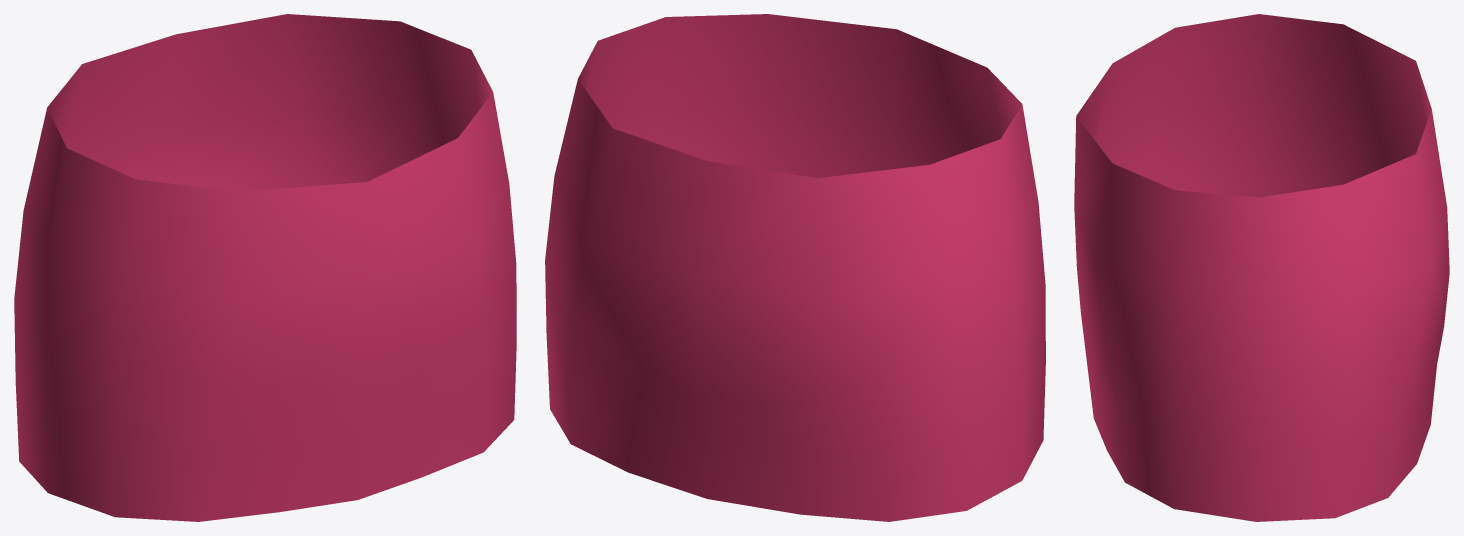
File: Pants_Pink_005.glb
The picture shows the model from 3 angles, left to right: view 1: azimuth 30°, elevation 25°; view 2: azimuth 150°, elevation 25°; view 3: azimuth 270°, elevation 25°; orthographic projection. The views are drawn at different scales.
Visible parts, largest first — view 1: Pants_Pink_005; view 2: Pants_Pink_005; view 3: Pants_Pink_005.
Part boxes in pixels (x1,y1,x2,y2): Pants_Pink_005: (14, 14, 516, 521); Pants_Pink_005: (545, 14, 1045, 521); Pants_Pink_005: (1074, 14, 1449, 521).
Size of the model in its own units: 0.4681 by 0.3437 by 0.3645.
1 material, 1 textured.
